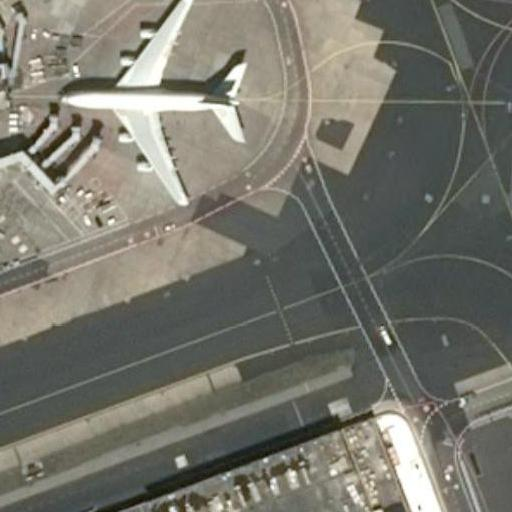Aircraft: (55, 0, 250, 204)
